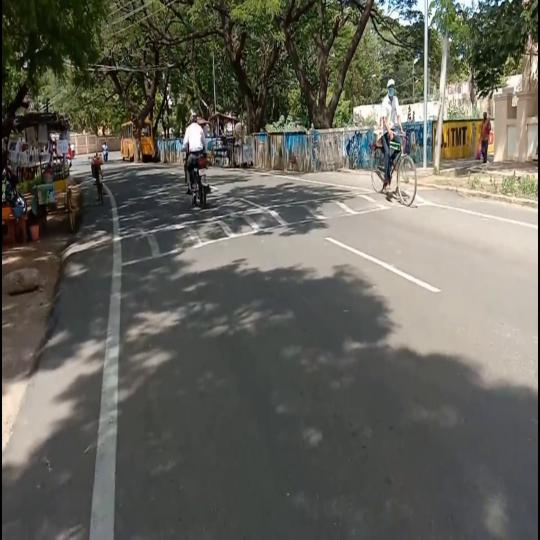Speed Bump: (61, 186, 460, 264)
